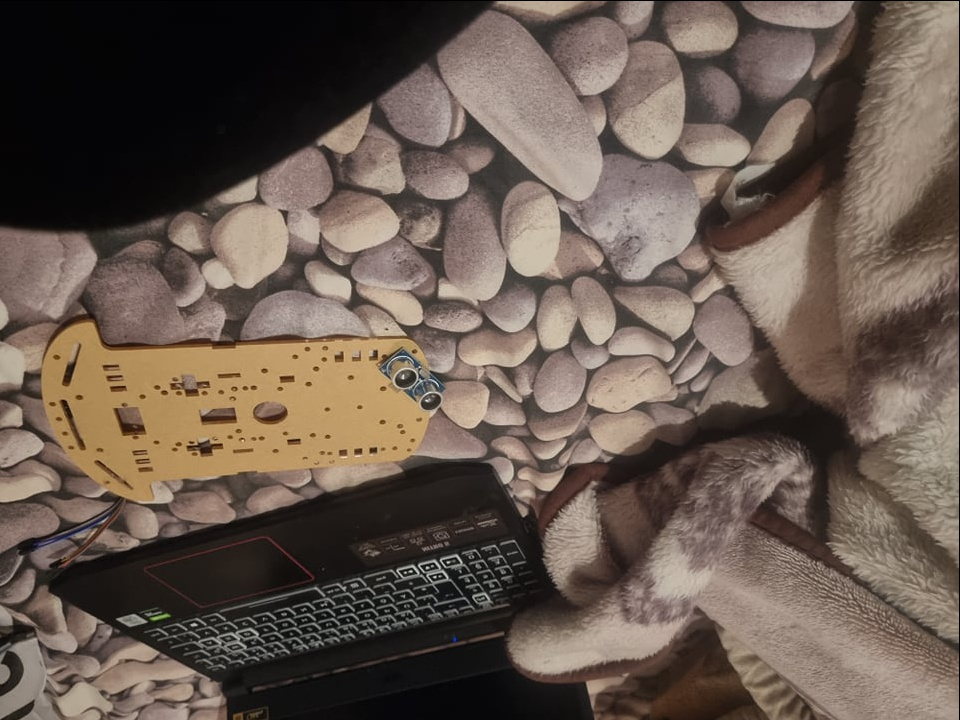SENSOR: (381, 350, 445, 412)
